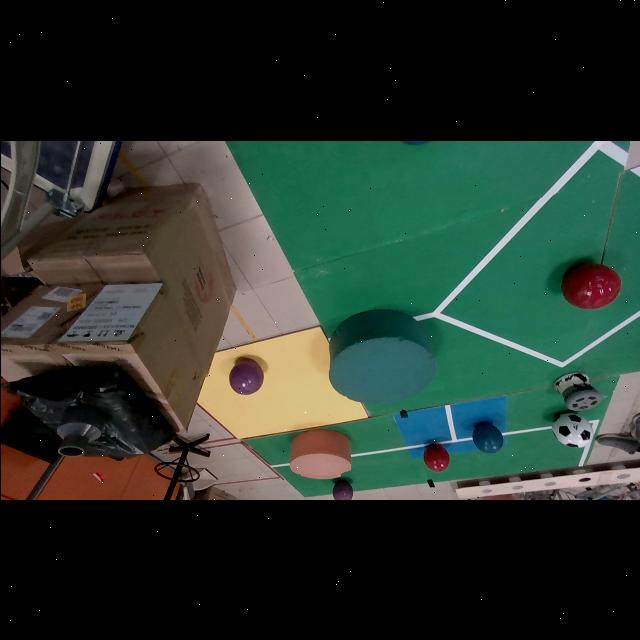B: (472, 422, 502, 453)
P: (228, 357, 263, 395), (331, 480, 353, 500)
R: (560, 264, 621, 309), (422, 445, 449, 472)
